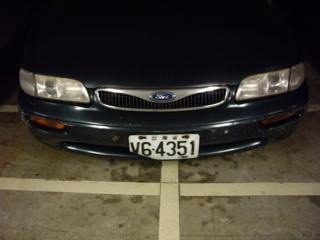plate: (125, 130, 199, 162)
